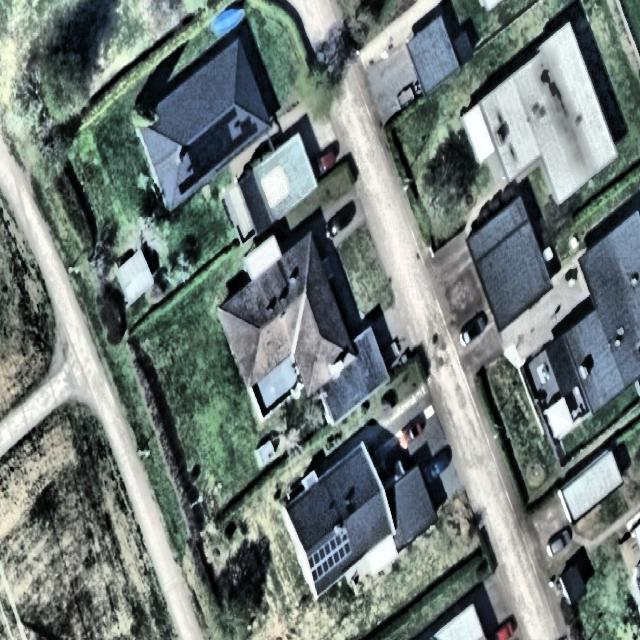roof_pv: (188, 117, 235, 174), (329, 528, 354, 575), (308, 538, 329, 585), (236, 116, 261, 147), (176, 173, 202, 197), (224, 103, 238, 126)
